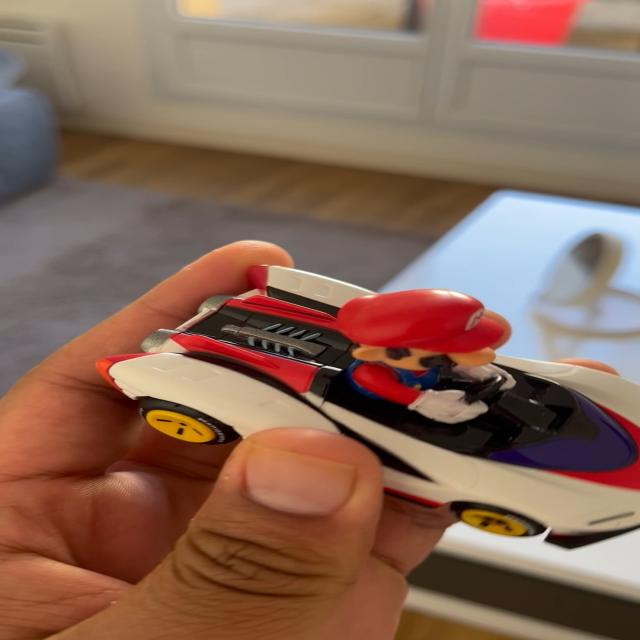mario: (104, 259, 640, 531)
